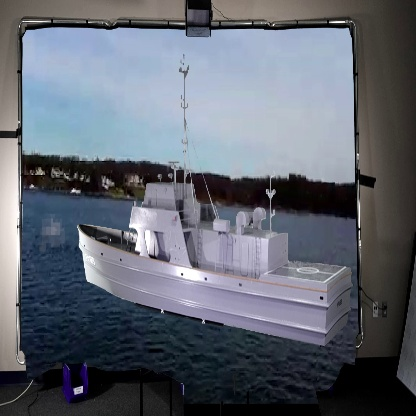YP689: (77, 55, 352, 350)
